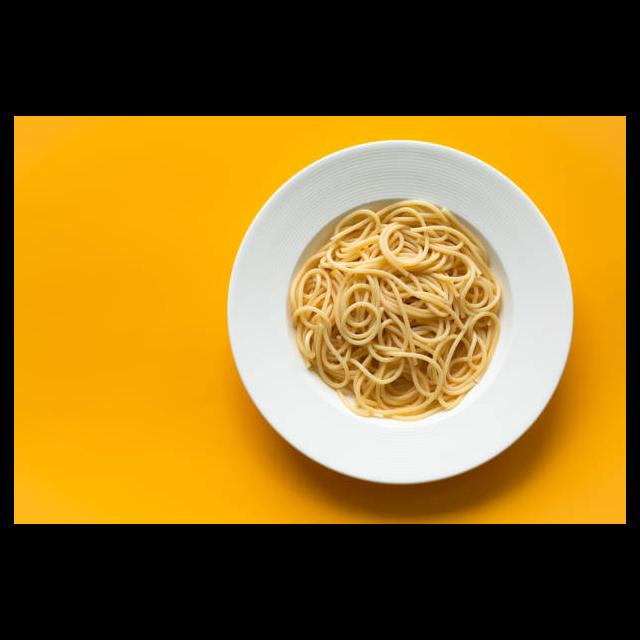noodles: (288, 196, 505, 422)
